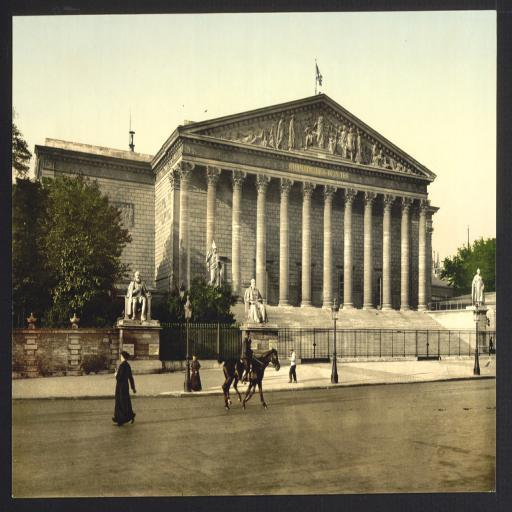horse: (218, 348, 280, 412)
